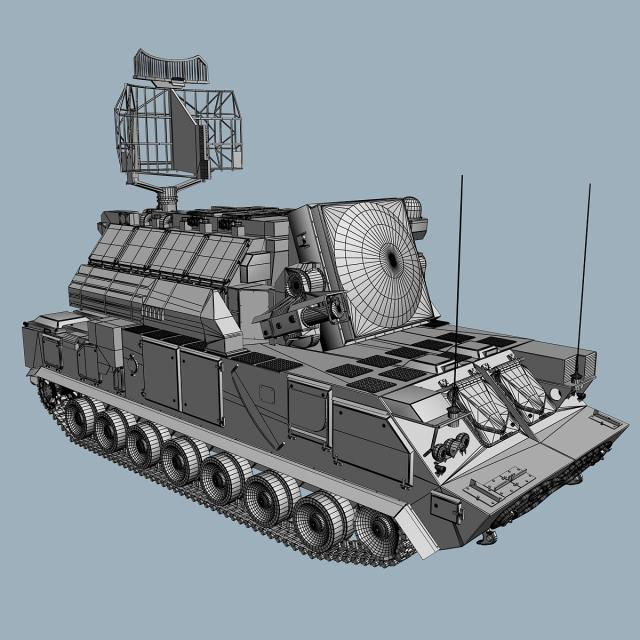MIL_EW_RDR: (21, 42, 624, 563)
